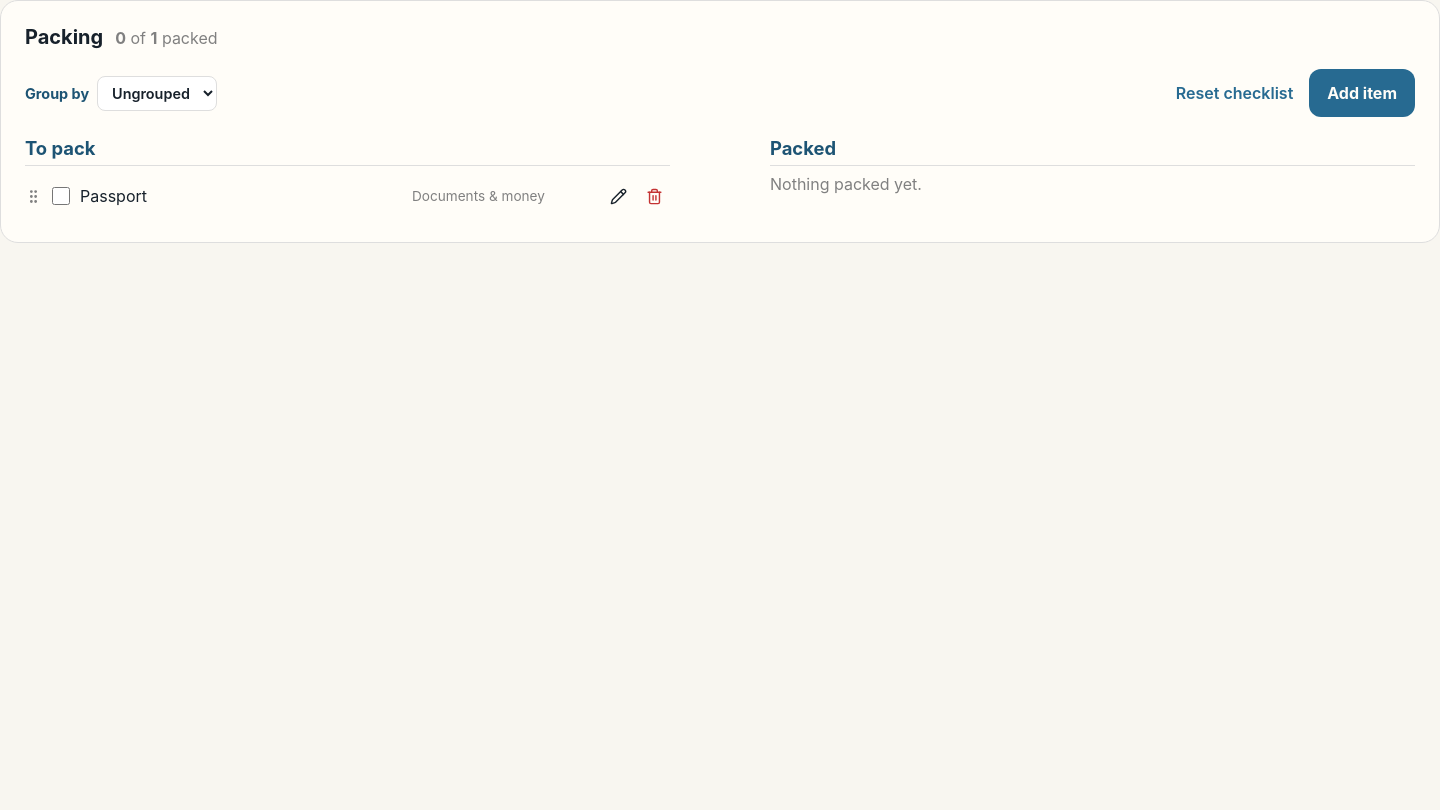
Test: PackingChecklist › restores a deleted item when Undo is selected
Expected: the checkbox named "Mark Passport as packed" is shown, [52,187,70,205]
Click the button named "Delete Passport" at (654, 196), box [638,180,670,212]
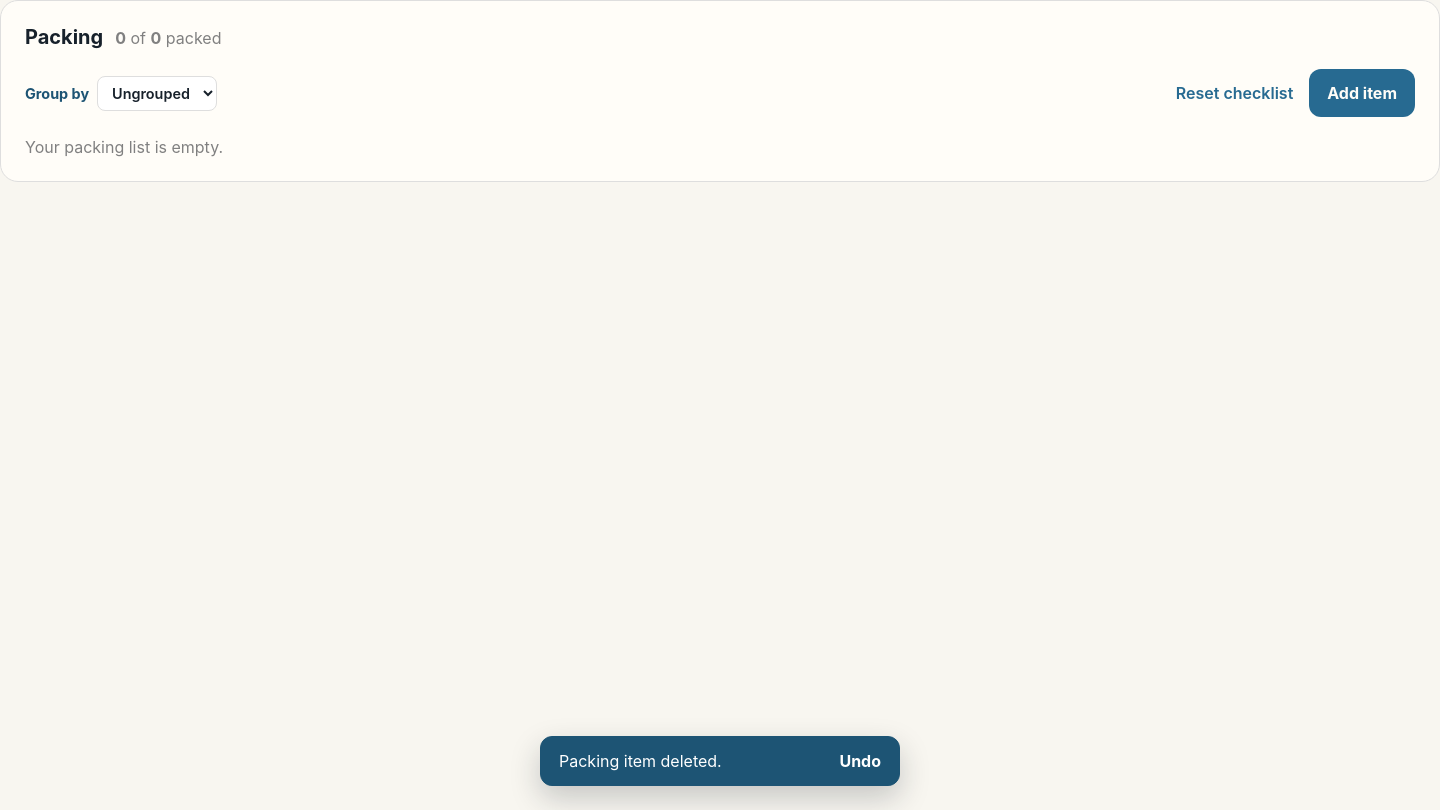
Click the button "Packing item deleted. Undo" at (720, 761), box [540,736,900,786]
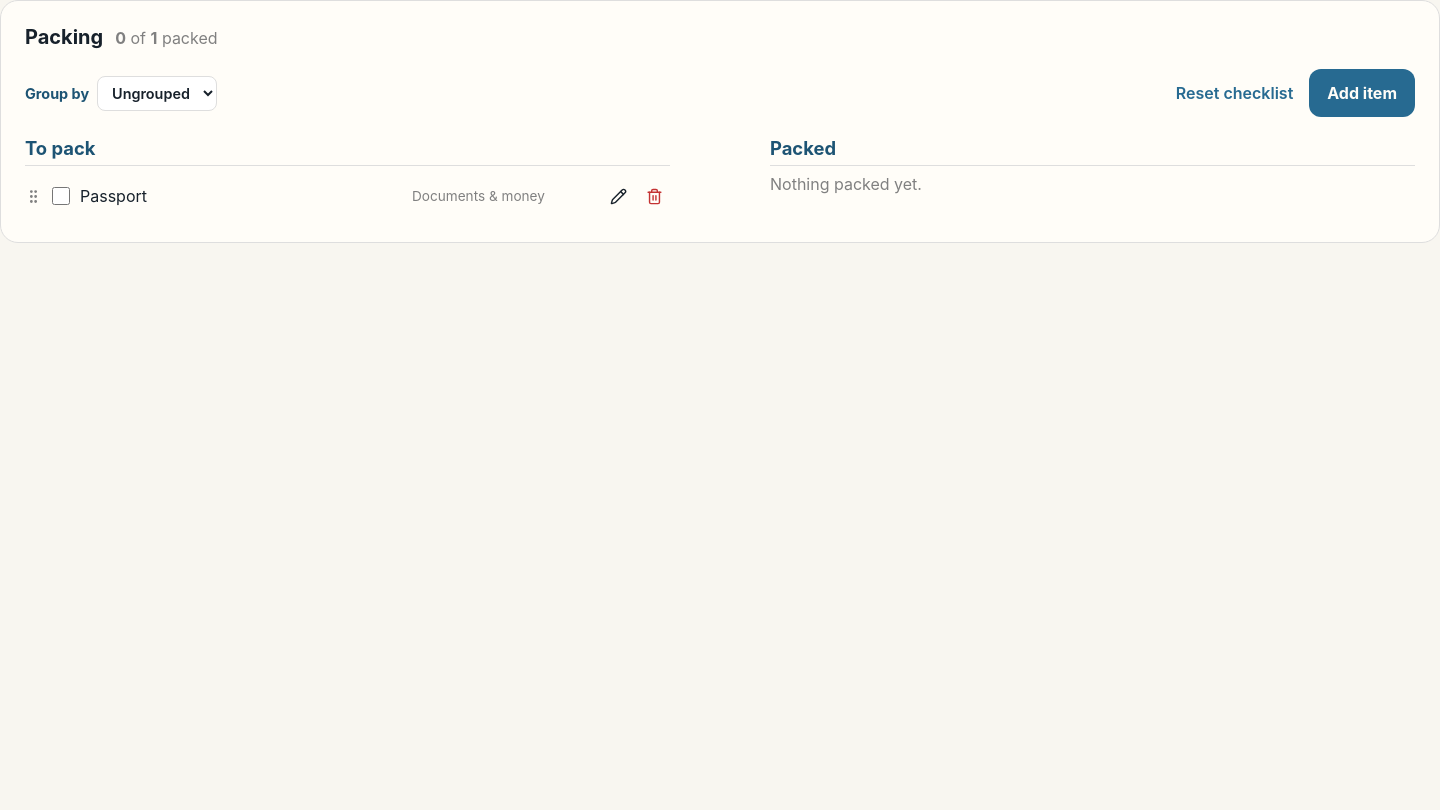
Expected: the checkbox named "Mark Passport as packed" is shown, [52,187,70,205]
